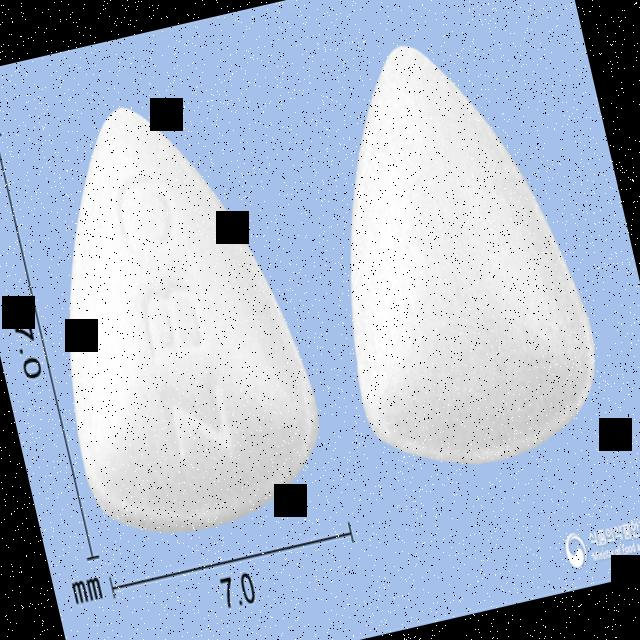Arava: (4, 77, 343, 563)
